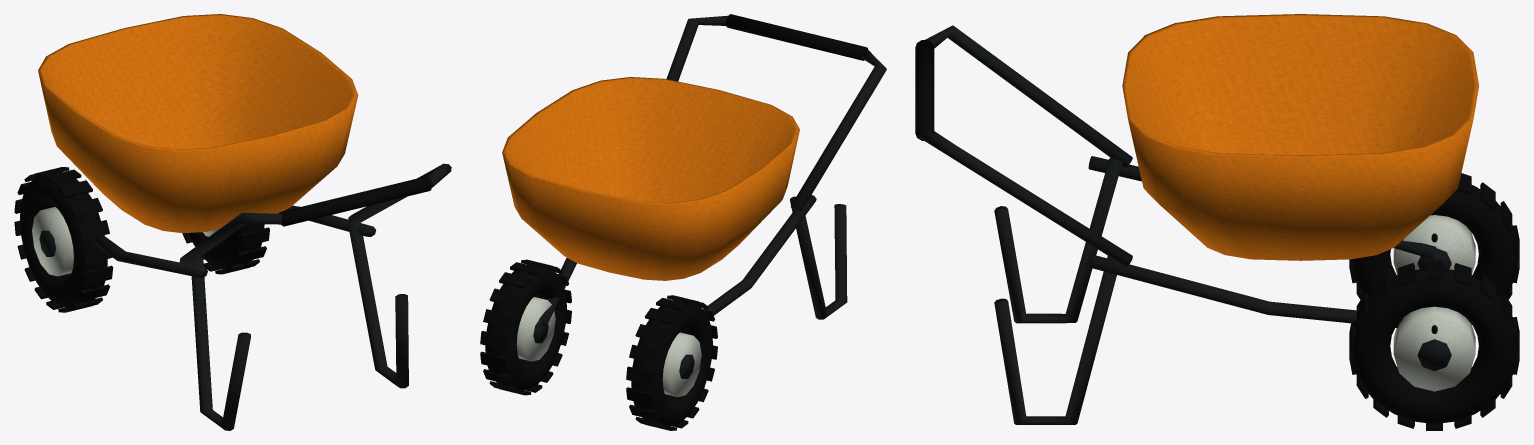
The model's file is DualWheelbarrow.fbx.
3 renders of one model, left to right at view 1: azimuth 30°, elevation 25°; view 2: azimuth 150°, elevation 25°; view 3: azimuth 270°, elevation 25°, orthographic. The views are drawn at different scales.
Parts seen in each view (by area): view 1: DualWheelbarrow__Body, DualWheelbarrow__Wheel_-1, DualWheelbarrow; view 2: DualWheelbarrow__Body, DualWheelbarrow__Wheel_-1, DualWheelbarrow; view 3: DualWheelbarrow__Body, DualWheelbarrow, DualWheelbarrow__Wheel_-1.
Part boxes in pixels (x1,y1,x2,y2): DualWheelbarrow__Body: (38,14,451,430); DualWheelbarrow__Wheel_-1: (14,167,113,312); DualWheelbarrow: (182,223,269,274); DualWheelbarrow__Body: (502,14,886,332); DualWheelbarrow__Wheel_-1: (626,295,717,430); DualWheelbarrow: (480,259,571,395); DualWheelbarrow__Body: (915,14,1478,424); DualWheelbarrow: (1349,260,1519,430); DualWheelbarrow__Wheel_-1: (1349,173,1519,299).
Size of the model in its own units: 78.4 by 74.8 by 139.
Materials: 1 (1 with a texture image).
